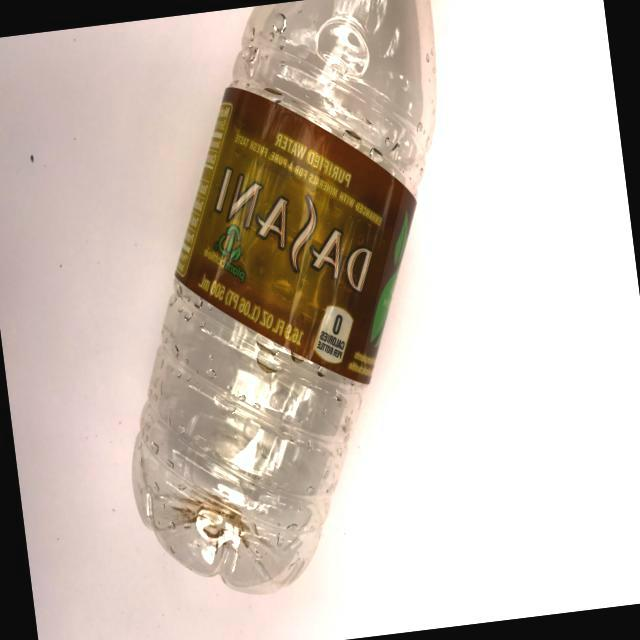plastic: (83, 0, 608, 640)
